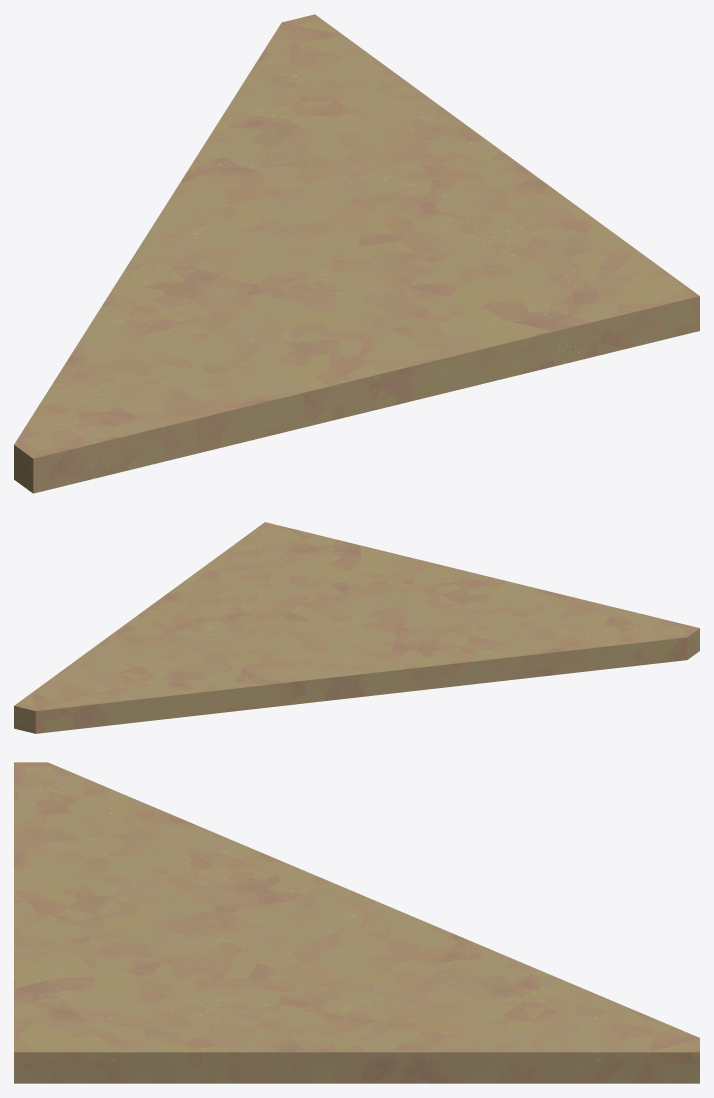
File: floor_diagonal.obj
The picture shows the model from 3 angles, top to bottom: view 1: azimuth 30°, elevation 25°; view 2: azimuth 150°, elevation 25°; view 3: azimuth 270°, elevation 25°; orthographic projection. The views are drawn at different scales.
Parts seen in each view (by area): view 1: Floor__23_; view 2: Floor__23_; view 3: Floor__23_.
Part boxes in pixels (left/top/right/bottom): Floor__23_: left=14, top=14, right=699, bottom=493; Floor__23_: left=14, top=522, right=699, bottom=733; Floor__23_: left=14, top=762, right=699, bottom=1083.
Size of the model in its own units: 4 by 0.2 by 4.
